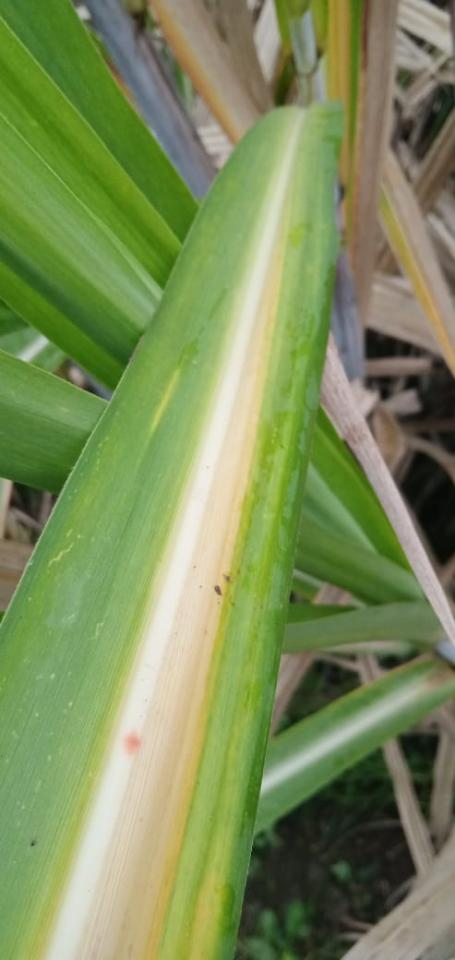RedRot: (123, 729, 142, 756)
Rust: (213, 584, 222, 596), (29, 836, 38, 848)
Yellow: (71, 242, 287, 959)
